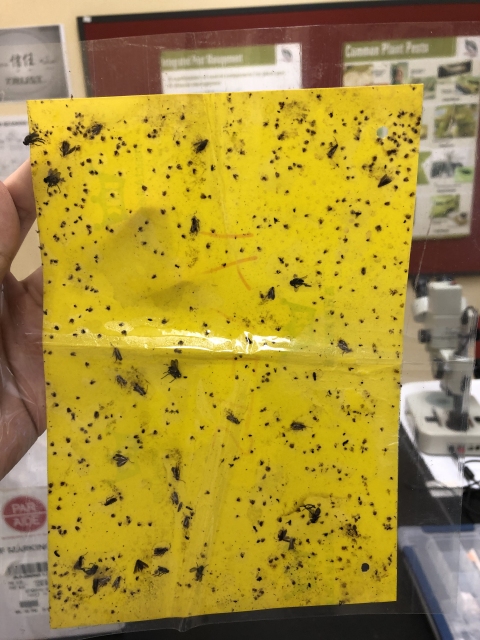DBM: (111, 452, 136, 470), (224, 407, 245, 428), (324, 136, 339, 162), (108, 342, 124, 365), (285, 419, 313, 432), (171, 461, 186, 485), (337, 338, 354, 356), (131, 380, 149, 397), (112, 372, 130, 389), (95, 575, 112, 589), (264, 284, 277, 302), (182, 510, 191, 532)
